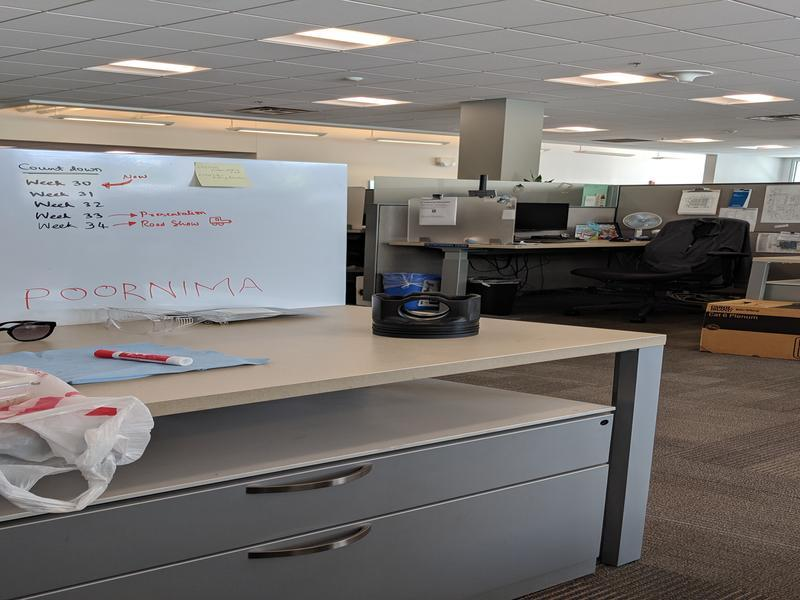piston: (368, 286, 483, 343)
